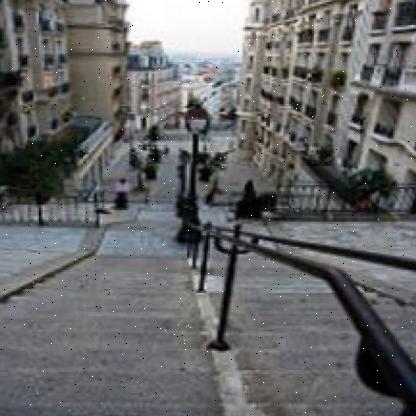stair_down: (0, 291, 220, 416)
